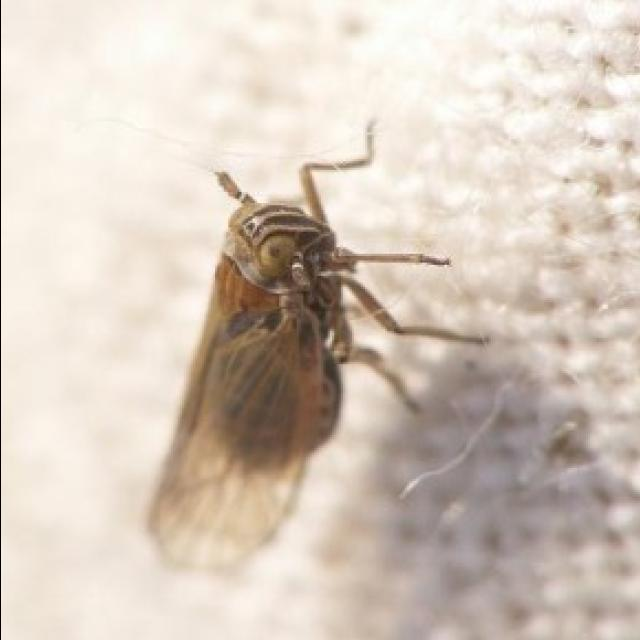brown plant hopper: (146, 126, 481, 572)
